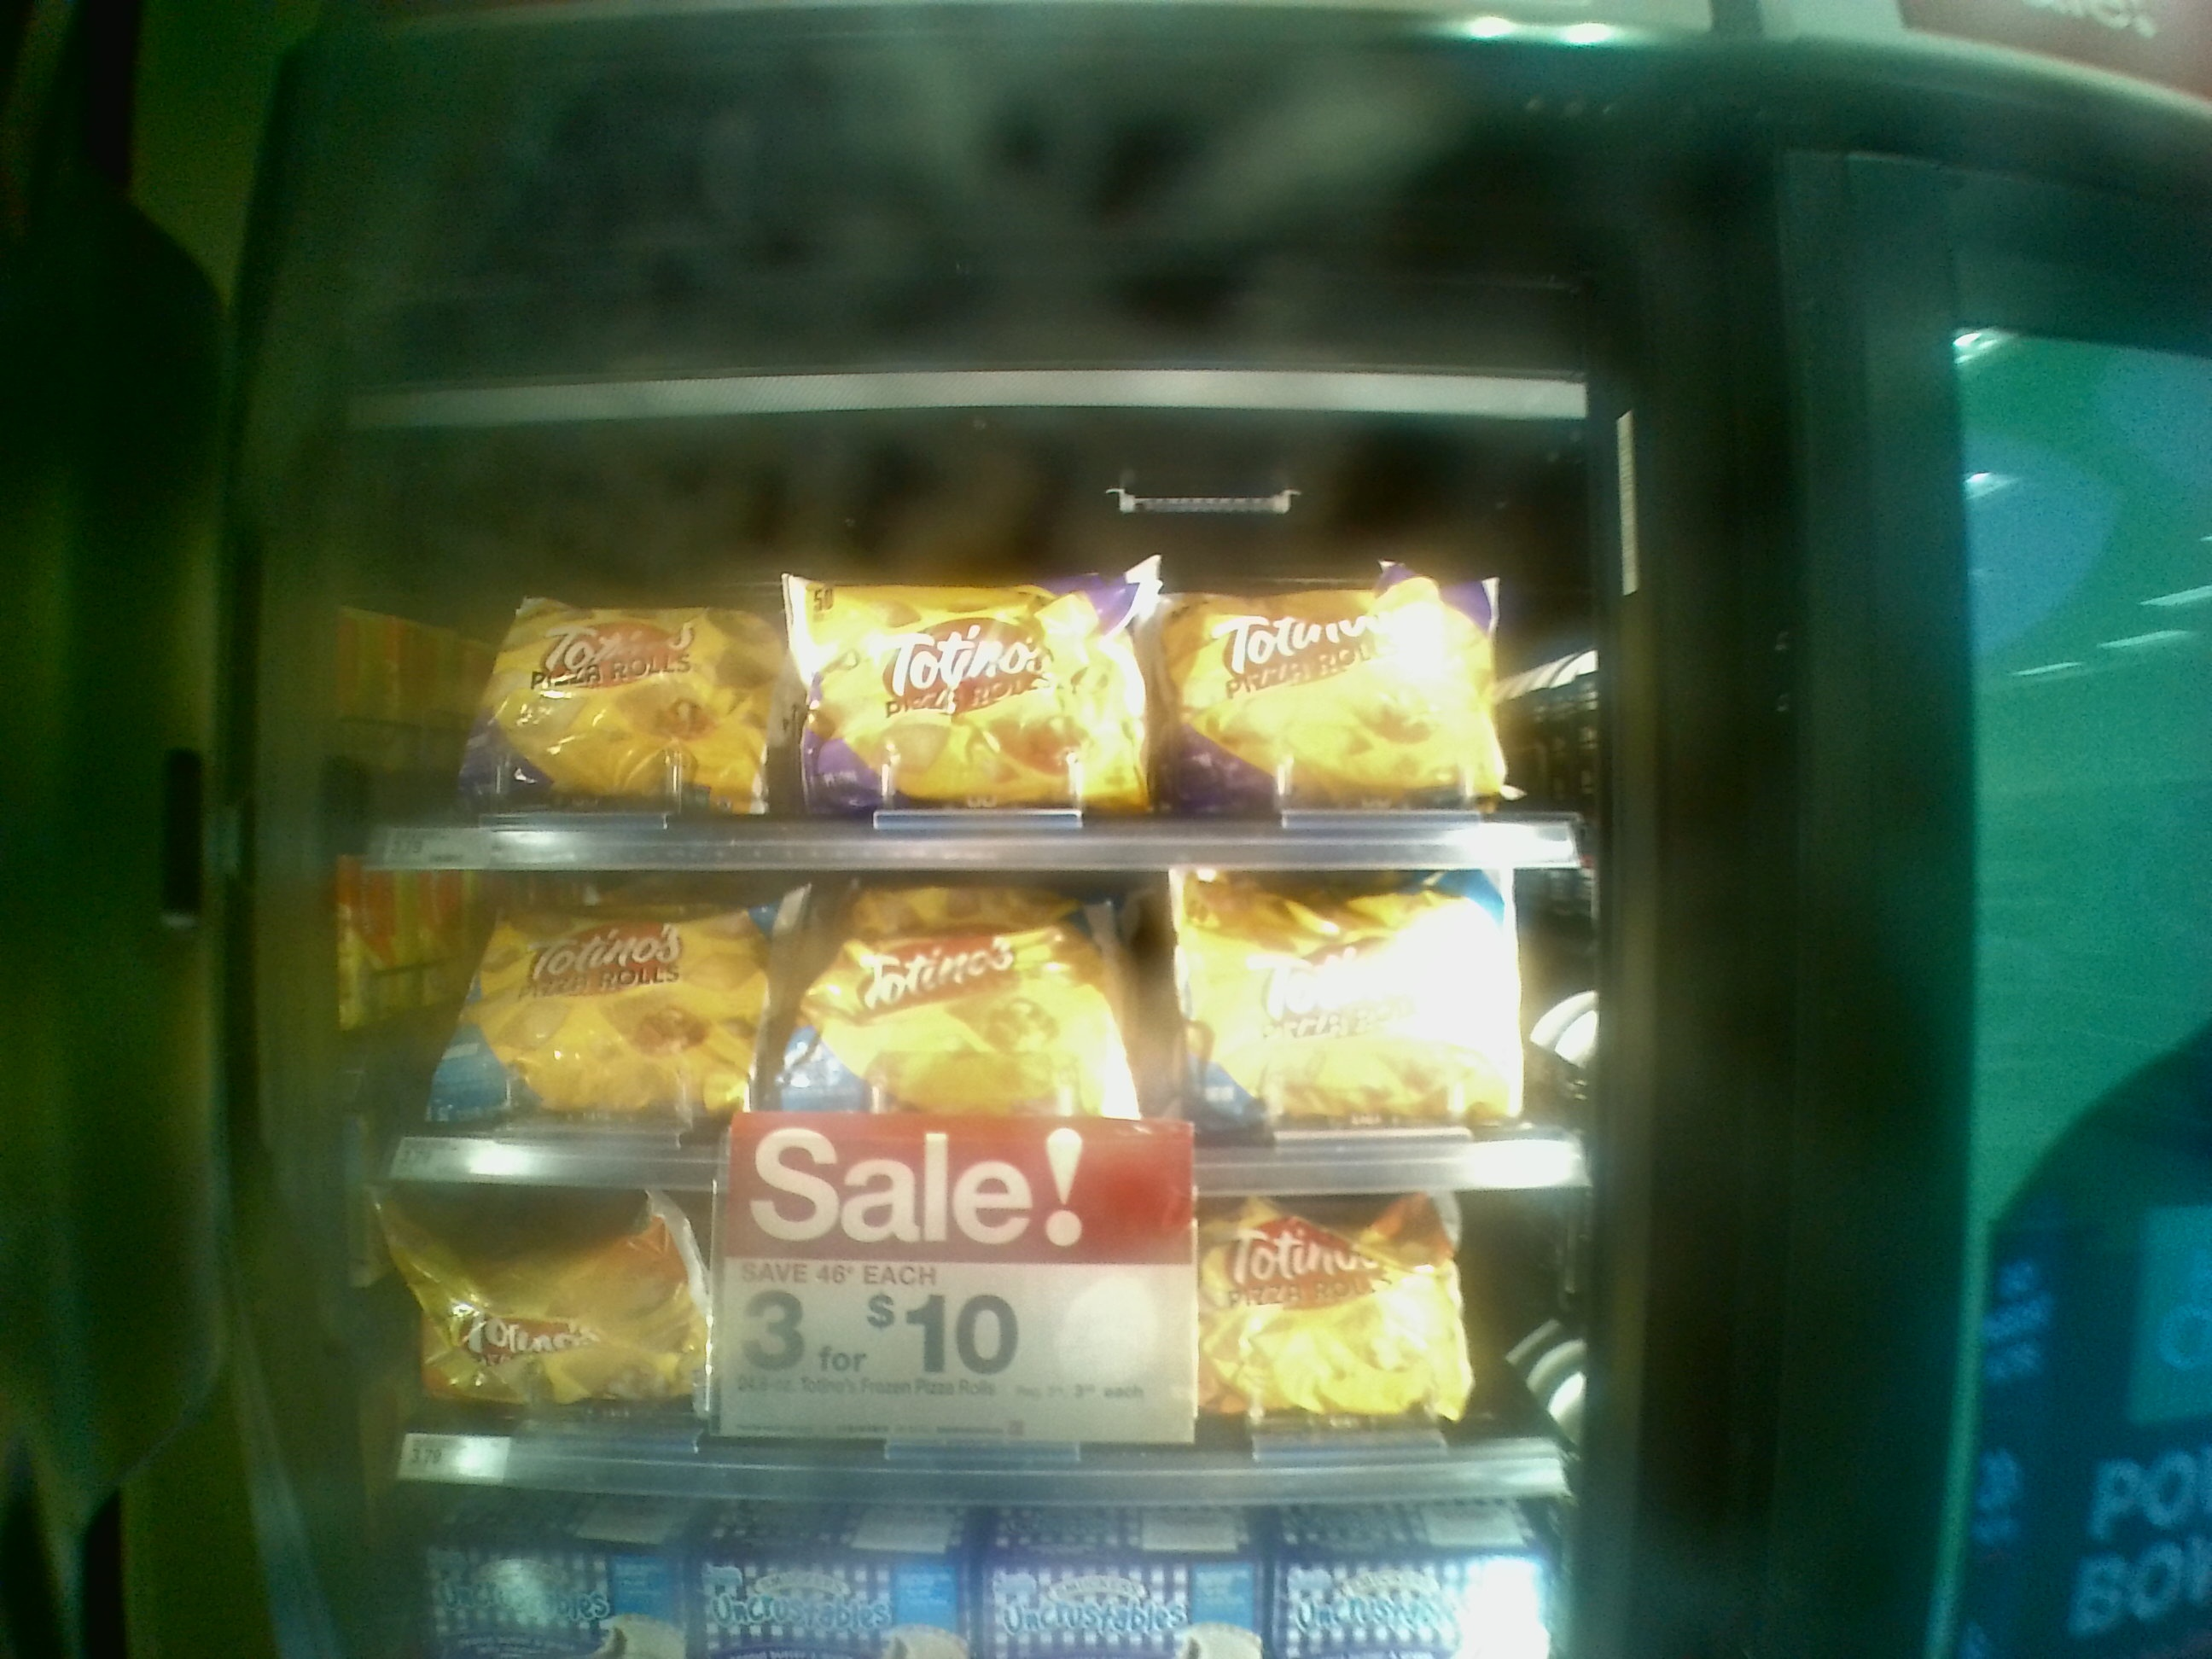shelf: (265, 497, 1587, 859), (280, 856, 1592, 1202), (280, 1164, 1583, 1502)
